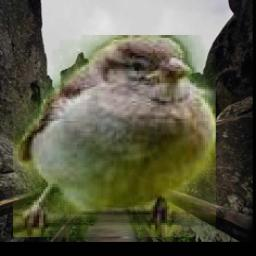Sparrow: (14, 35, 217, 237)
